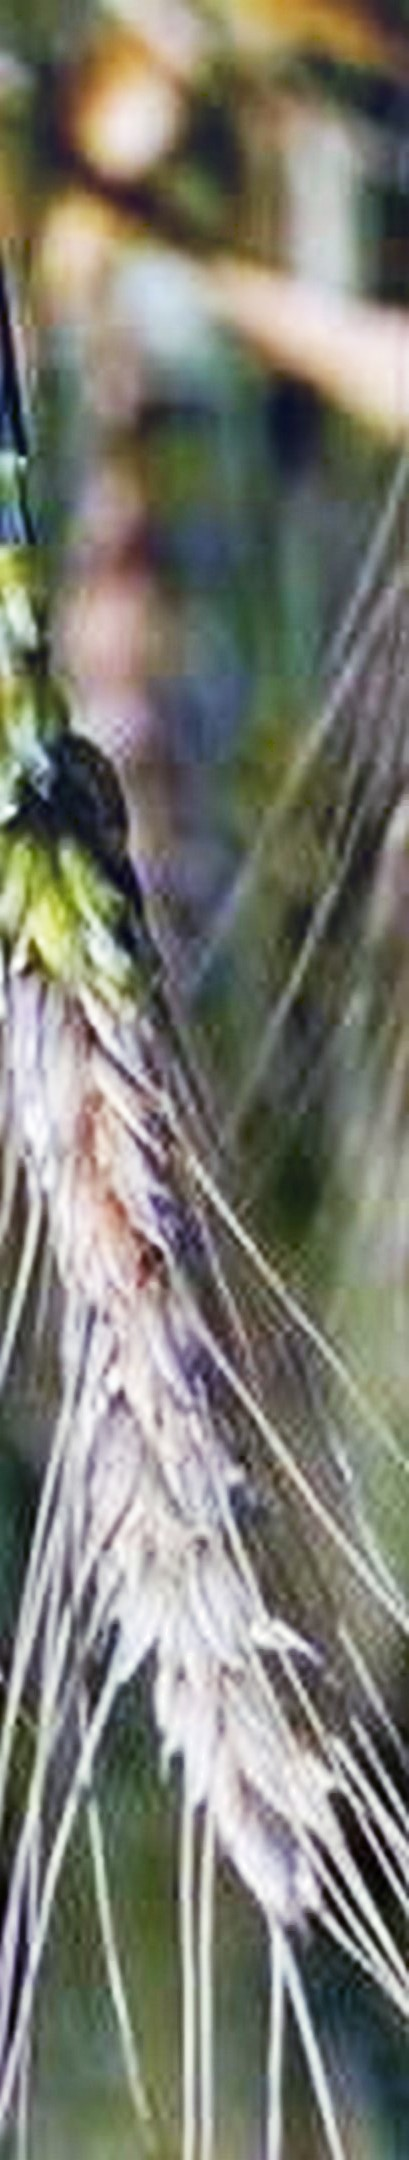Wheat scab: (1, 719, 375, 1918)
